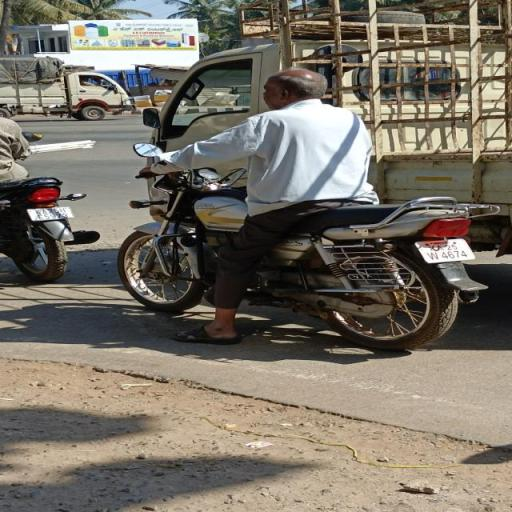bike: (115, 66, 493, 357)
numberplate: (414, 231, 476, 268)
withouthelmet: (266, 70, 326, 104)
